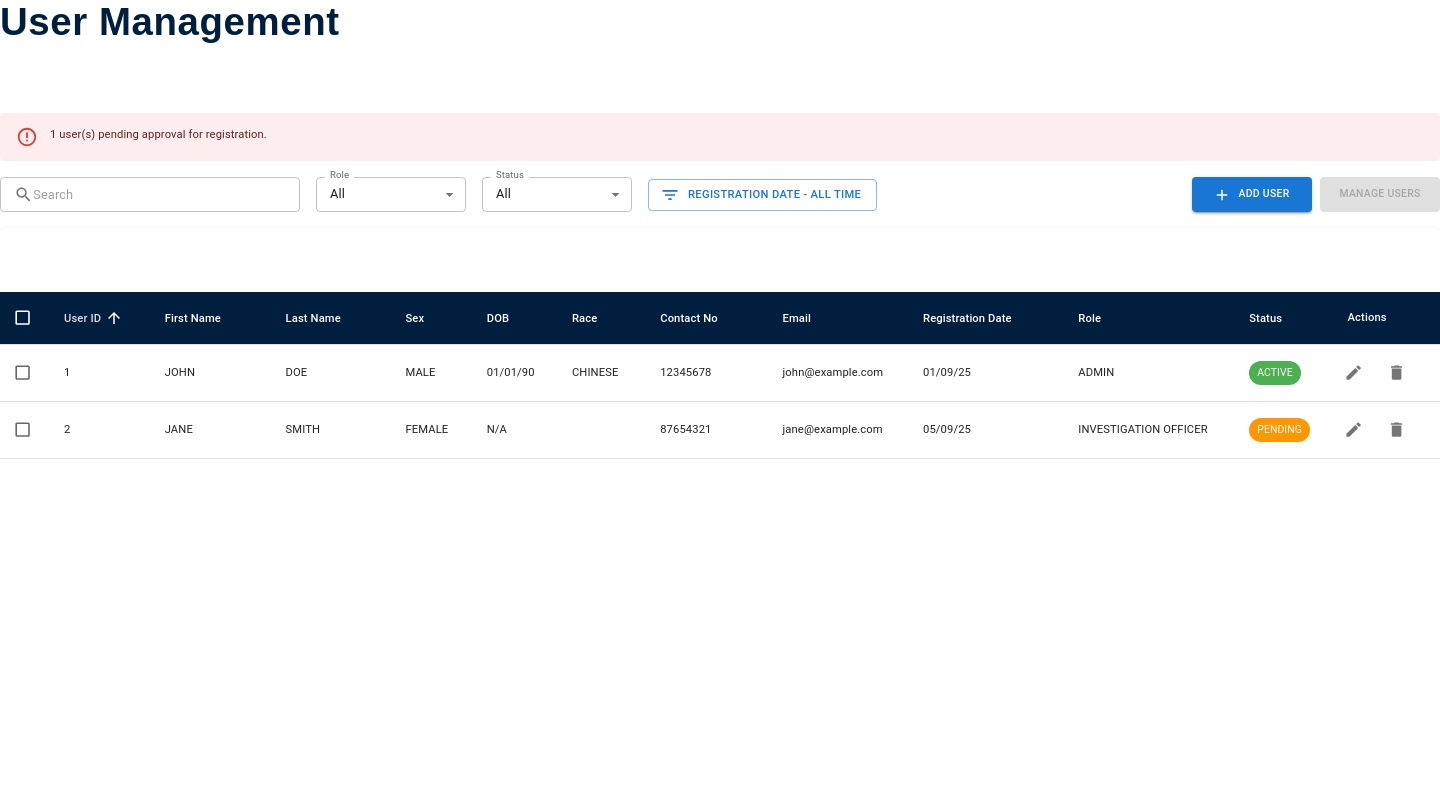
Test: UserManagement Component › opens edit dialog on edit icon click
expect the text "JOHN" is shown: met, box [149,344,270,401]
expect the text "DOE" is shown: met, box [270,344,390,401]
Click the button named "edit" in the row of "DOE" at (1353, 373), box [1332,351,1375,394]
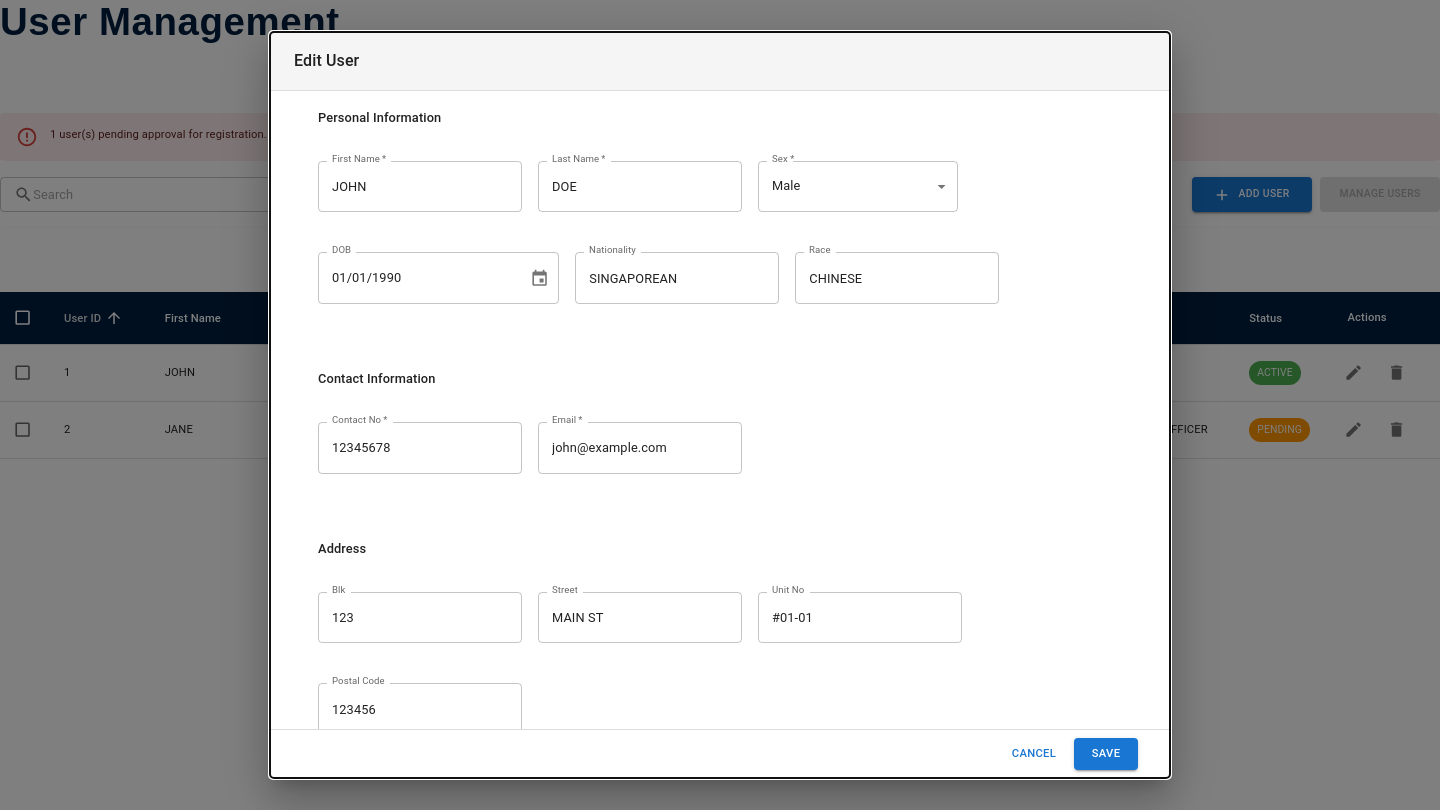
expect the heading "Edit User" is shown: met, box [270,32,1170,91]
expect the field showing "JOHN" is shown: met, box [318,161,522,212]
